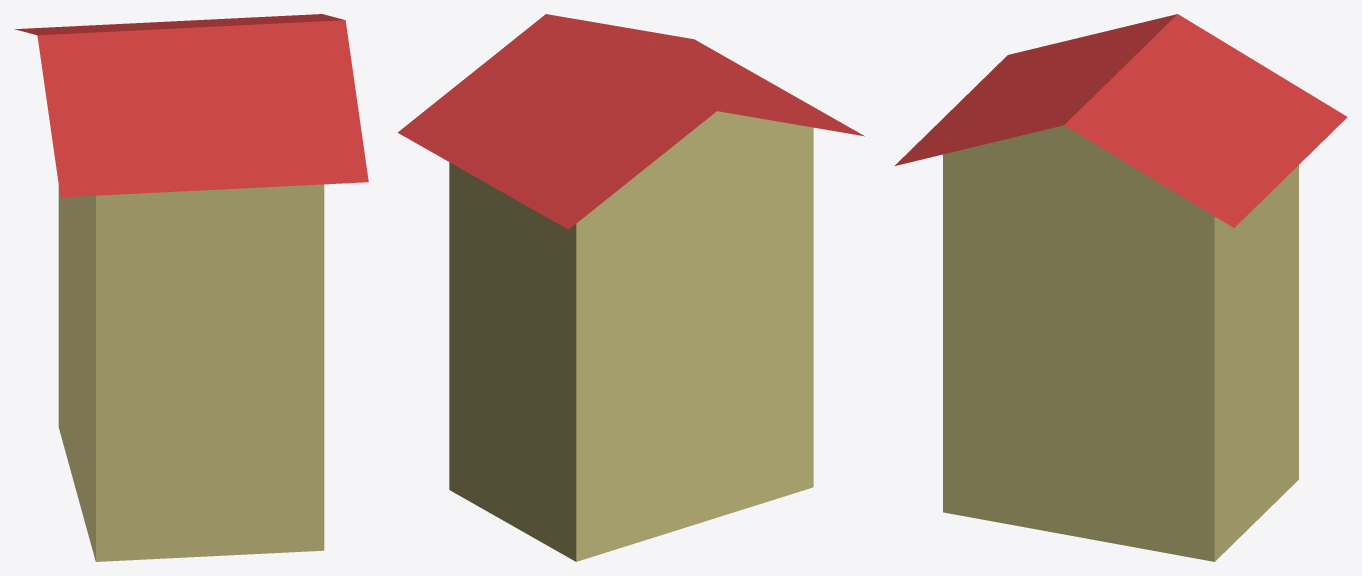
3 views of the same model, side by side, from view 1: azimuth 30°, elevation 25°; view 2: azimuth 150°, elevation 25°; view 3: azimuth 270°, elevation 25° (orthographic). The views are drawn at different scales.
Size of the model in its own units: 5.52 by 6.1 by 6.33.
